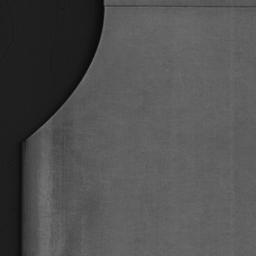Crescent gap: (28, 0, 104, 139)
